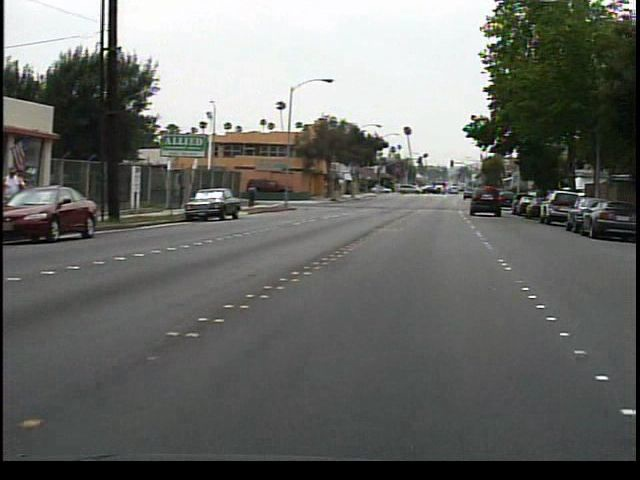person: (7, 161, 38, 237), (250, 181, 267, 212)
